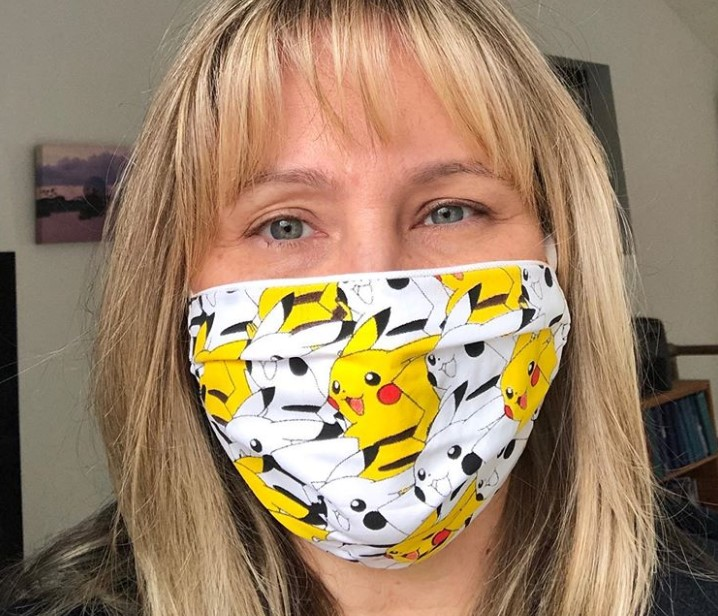face_with_mask: (168, 6, 601, 587)
